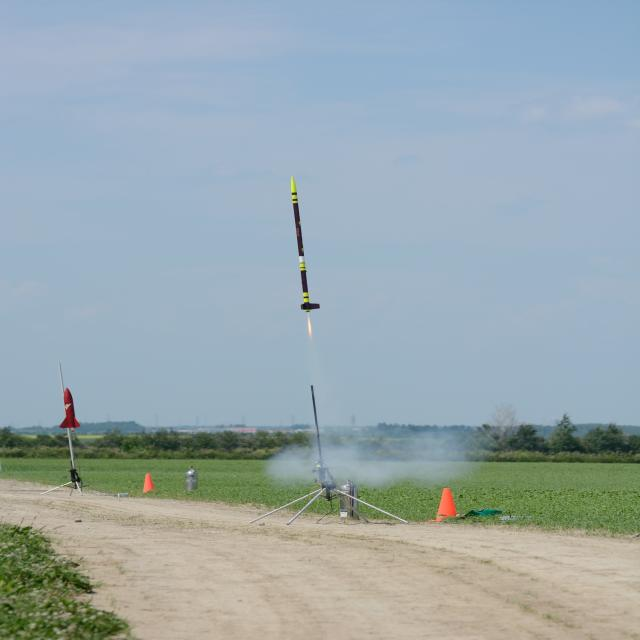Rocket: (290, 176, 320, 312)
